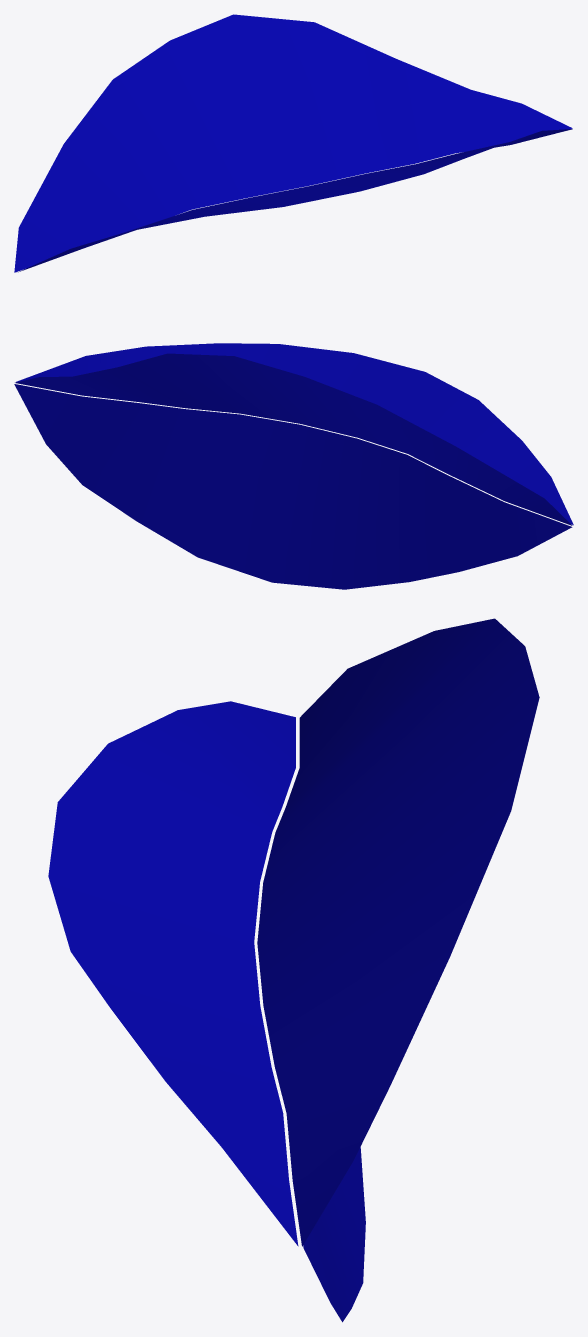
Rendered from Marble_Type03_90s_001.fbx.
3 views of the same model, one above another, from view 1: azimuth 30°, elevation 25°; view 2: azimuth 150°, elevation 25°; view 3: azimuth 270°, elevation 25° (orthographic). The views are drawn at different scales.
Parts seen in each view (by area): view 1: Marble_Type03_90s_001; view 2: Marble_Type03_90s_001; view 3: Marble_Type03_90s_001.
Boxes of the visible parts, box(x1,y1,x2,y2) form: Marble_Type03_90s_001: box(14, 14, 572, 272); Marble_Type03_90s_001: box(14, 343, 573, 589); Marble_Type03_90s_001: box(48, 618, 539, 1322).
Size of the model in its own units: 95.38 by 42.41 by 36.36.
